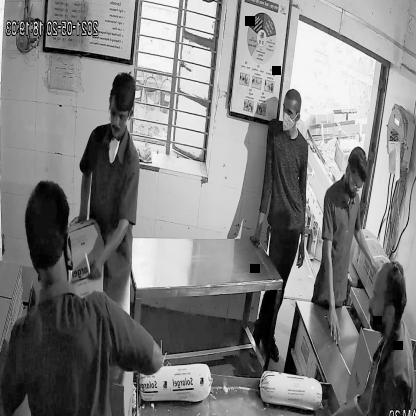goggles: (108, 107, 134, 126), (347, 173, 364, 193)
no_goggles: (280, 104, 302, 120)
